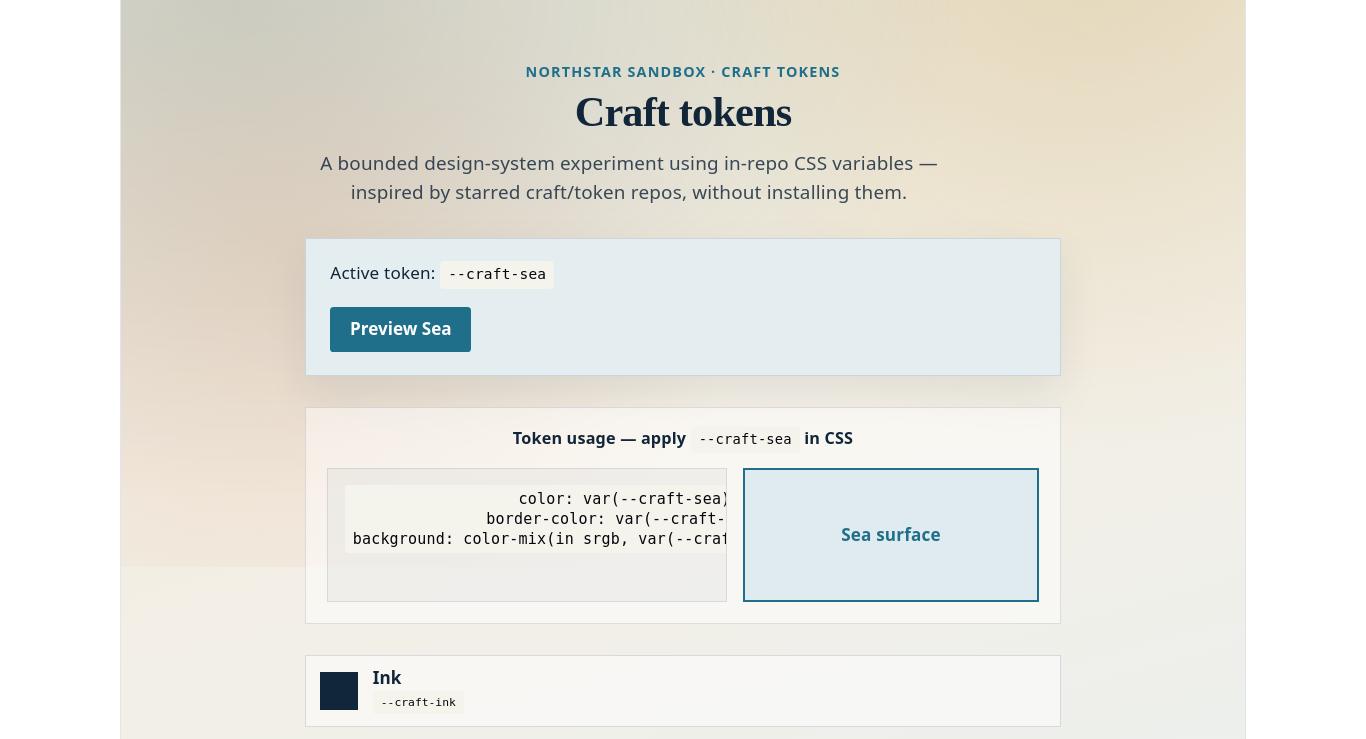
Test case: CraftTokensDemo › lets keyboard users select a token with aria-pressed
This screenshot has width=1366, height=739.
Press Tab
(page scrolled)
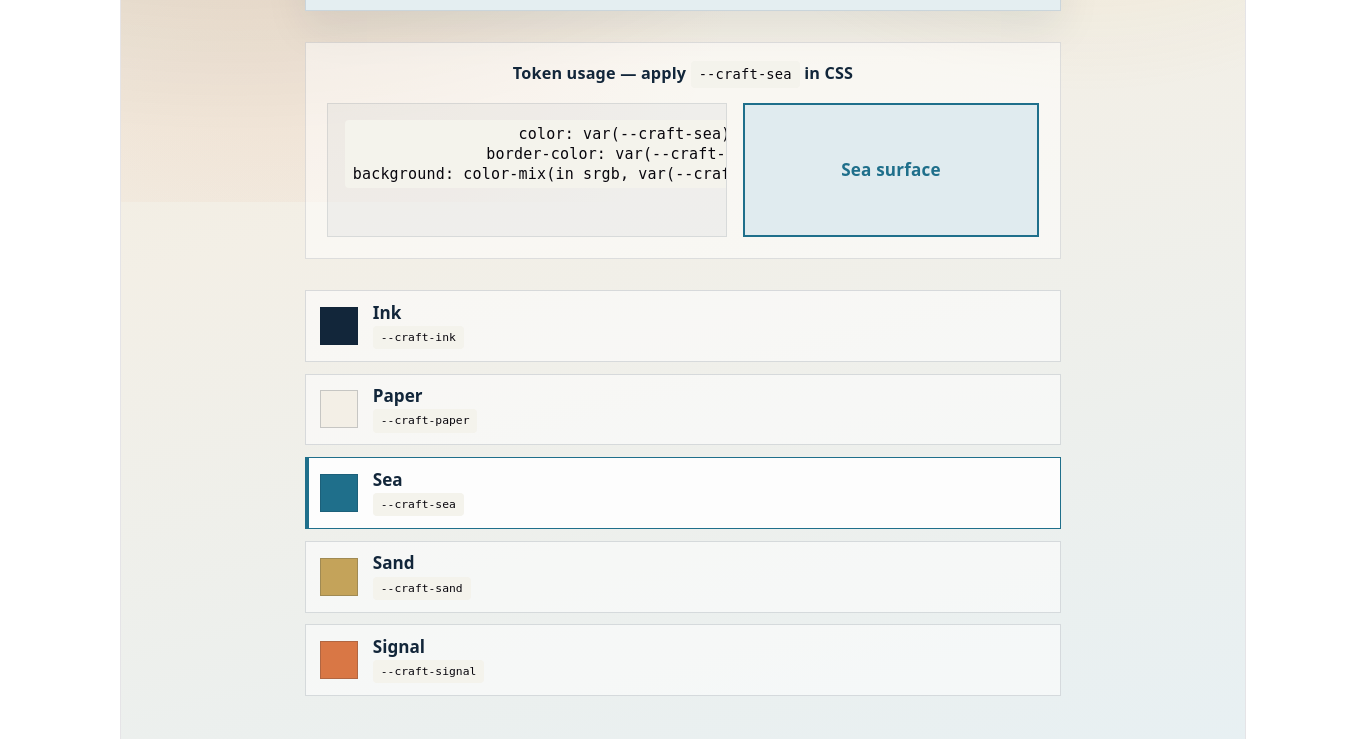
Click the button with aria-label "Select Sand token --craft-sand": (338, 577) [305,541,1061,612]
(page scrolled)
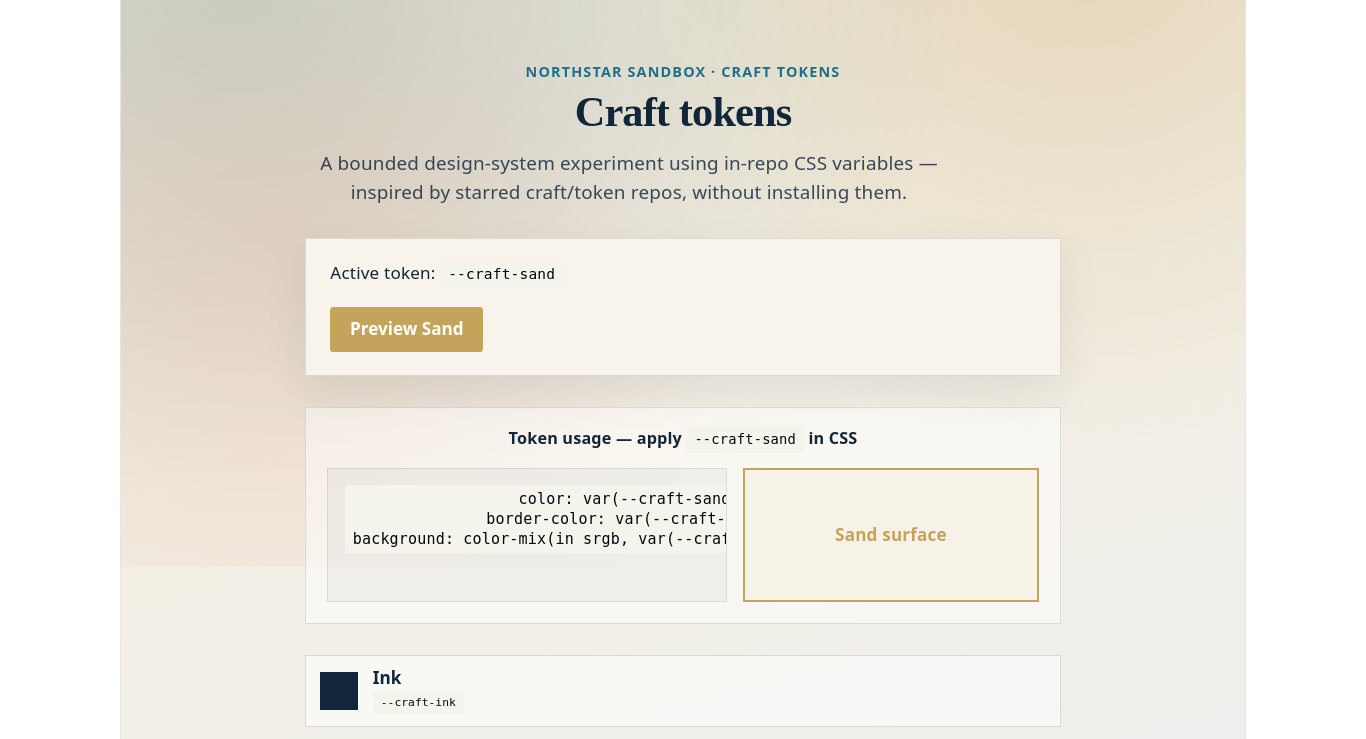
Result: the text "Active token: --craft-sand" is shown at [330,261,563,289]
Result: the button "Preview Sand" is shown at [330,307,483,352]
